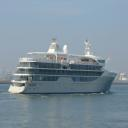cruises: (8, 38, 119, 97)
